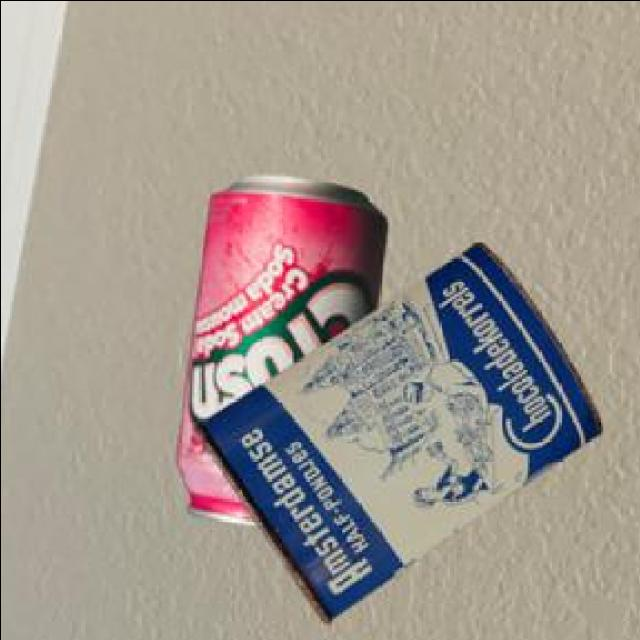logam: (190, 239, 597, 619), (172, 172, 383, 521)
